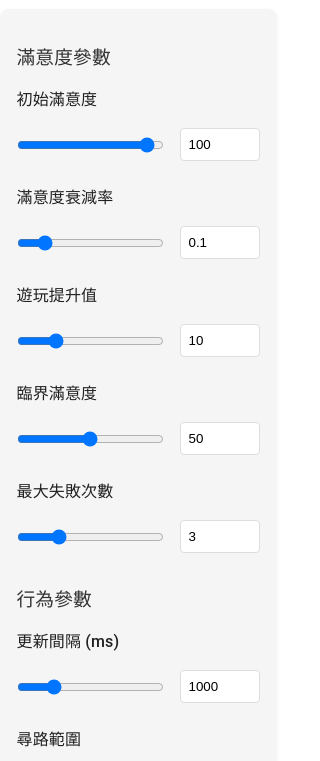
Test: VisitorConfigPanel › 應該限制參數在有效範圍內
嘗試設定超出範圍的值
Step 1. Set the slider labelled "滿意度衰減率" to "2" → (90, 243), box 16,226 -> 164,260
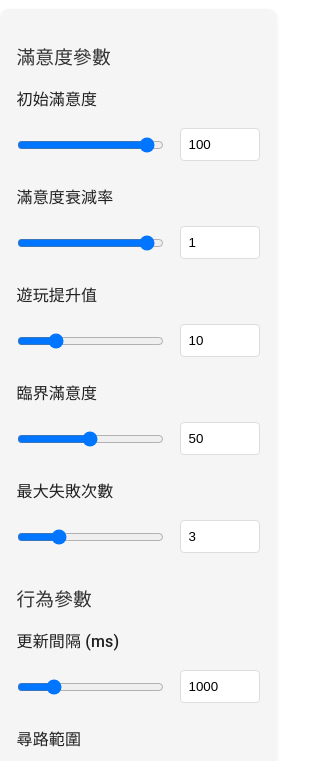
Result: the slider labelled "滿意度衰減率" holds "1"
Step 2. Set the slider labelled "滿意度衰減率" to "-1" → (90, 243), box 16,226 -> 164,260
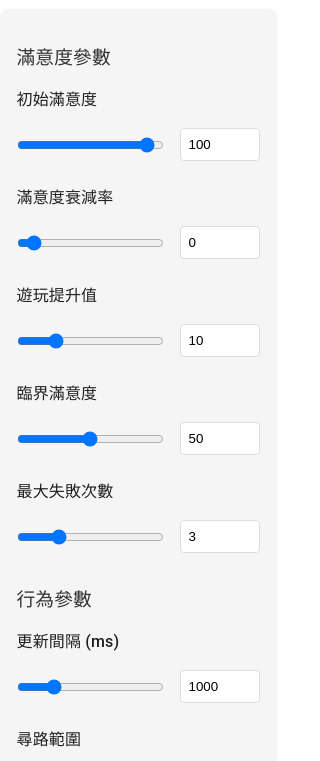
Result: the slider labelled "滿意度衰減率" holds "0" at 16,226 -> 164,260
